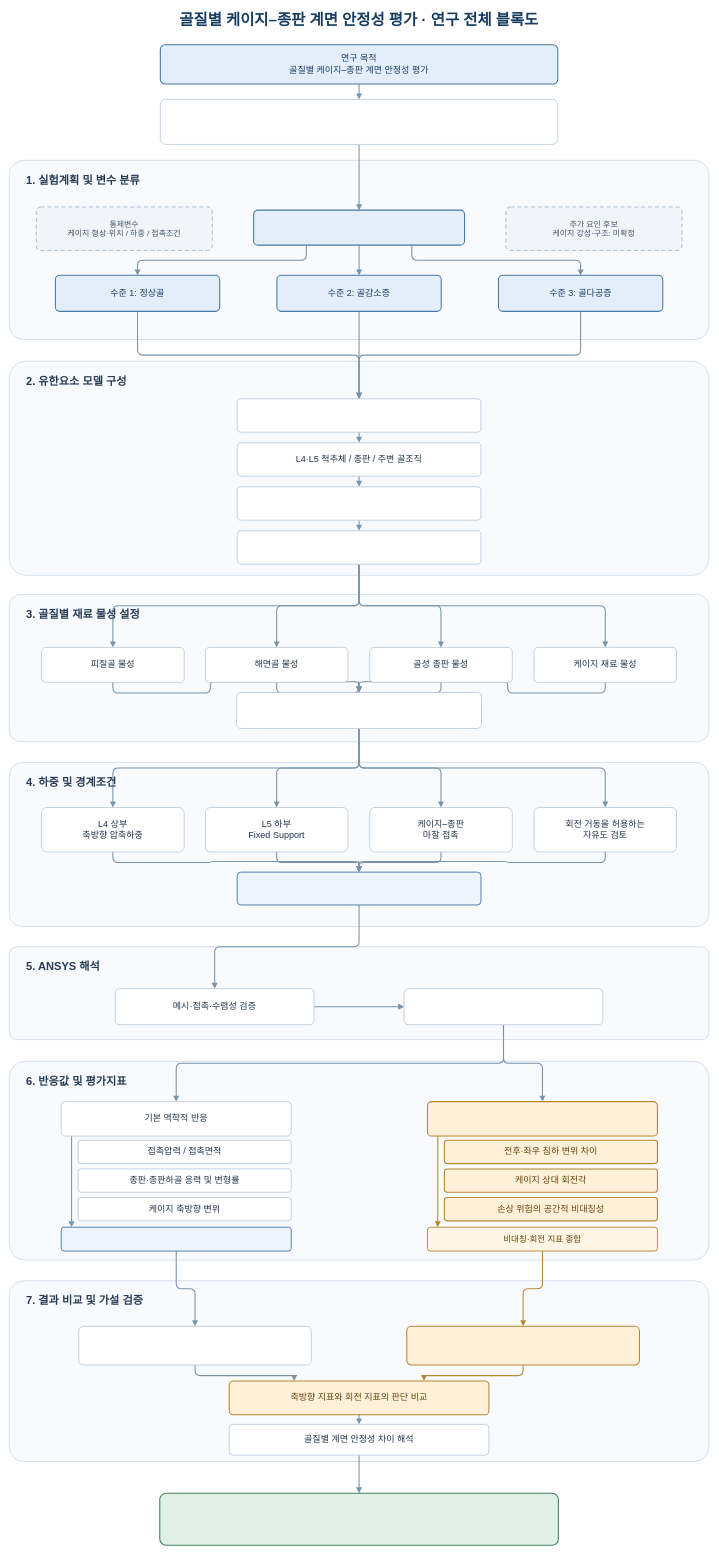
This 719x1554 diagram has some shape labels left out. Each missing label, with the box of its shape:
결론 골질별 계면 안정성과 비대칭·회전 위험 평가의 유효성: (159, 1492, 559, 1545)
고정형 케이지 삽입 및 접촉면 구성: (237, 530, 481, 564)
골질 3수준별 물성 적용 문헌 근거 및 물성 검증: (236, 692, 482, 729)
골질 3수준별 압축해석: (403, 988, 603, 1025)
골질별 기존 압축 안정성 비교: (78, 1326, 312, 1365)
골질별 비대칭·회전 거동 비교: (406, 1326, 640, 1365)
기본 역학 지표 종합: (61, 1227, 291, 1251)
기존 FEBio L4–L5 모델 활용: (237, 398, 481, 432)
독립요인: 골질: (253, 209, 465, 245)
수술 후 추간판·종판 처리 조건 설정: (237, 486, 481, 520)
연구 가설 골질에 따라 축방향 압축 및 비대칭·회전 침강 위험이 달라지는가?: (160, 99, 558, 145)
차별성 후보: 비대칭·회전 거동: (427, 1101, 658, 1136)
하중·경계조건 설정 통합: (236, 871, 481, 905)
